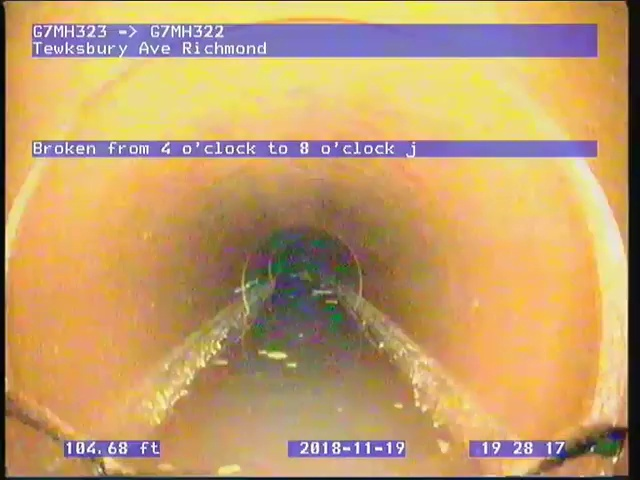crack: (7, 391, 139, 476), (508, 422, 627, 475)
